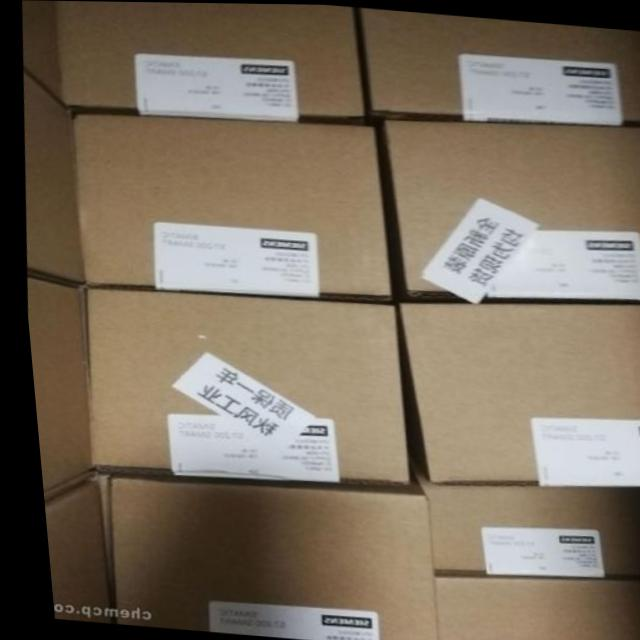box: (22, 69, 386, 300), (78, 287, 400, 484), (87, 461, 425, 640), (381, 119, 640, 297), (391, 302, 640, 484), (22, 0, 362, 121), (362, 8, 640, 125), (399, 453, 640, 579), (35, 470, 101, 622)
